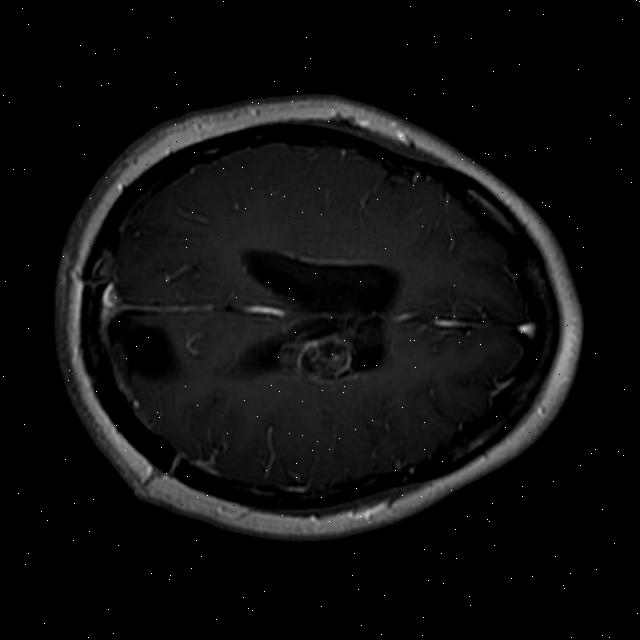Glioma: (274, 325, 355, 388)
